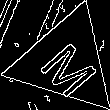M_NE: (30, 28, 101, 95)
